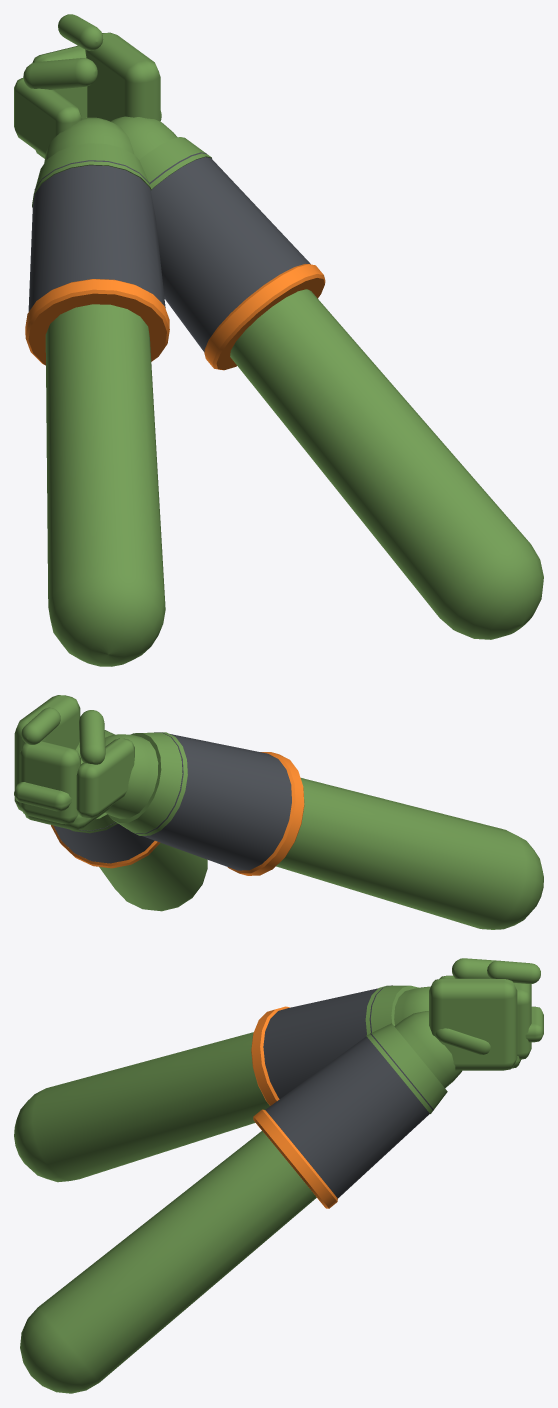
The model's file is boulder.glb.
The picture shows the model from 3 angles, top to bottom: view 1: azimuth 30°, elevation 25°; view 2: azimuth 150°, elevation 25°; view 3: azimuth 270°, elevation 25°; orthographic projection. The views are drawn at different scales.
Visible parts, largest first — view 1: forearm_R, forearm_L, bracer_R, bracer_L, palm_R, bracer_trim_L, bracer_trim_R, fingers_L, cuff_L, thumb_R, cuff_R, trigger_finger_R (+1 smaller); view 2: forearm_L, bracer_L, forearm_R, cuff_L, fingers_R, fingers_L, bracer_R, palm_R, bracer_trim_L, thumb_R, knuckles_R, trigger_finger_R (+3 smaller); view 3: forearm_R, forearm_L, bracer_R, bracer_L, palm_R, cuff_R, bracer_trim_R, cuff_L, bracer_trim_L, fingers_R, trigger_finger_R, thumb_L (+1 smaller).
Part boxes in pixels (x1=…): forearm_R: x1=110, y1=116, x2=543, y2=639; forearm_L: x1=44, y1=117, x2=165, y2=666; bracer_R: x1=149, y1=152, x2=310, y2=352; bracer_L: x1=28, y1=160, x2=165, y2=311; palm_R: x1=85, y1=32, x2=160, y2=121; bracer_trim_L: x1=25, y1=279, x2=169, y2=365; bracer_trim_R: x1=204, y1=264, x2=325, y2=370; fingers_L: x1=14, y1=78, x2=81, y2=156; cuff_L: x1=32, y1=143, x2=151, y2=207; thumb_R: x1=23, y1=58, x2=97, y2=89; cuff_R: x1=139, y1=137, x2=211, y2=189; trigger_finger_R: x1=58, y1=14, x2=103, y2=50; forearm_L: x1=105, y1=734, x2=543, y2=929; bracer_L: x1=127, y1=732, x2=291, y2=870; forearm_R: x1=76, y1=742, x2=207, y2=911; cuff_L: x1=108, y1=732, x2=187, y2=835; fingers_R: x1=19, y1=741, x2=80, y2=824; fingers_L: x1=76, y1=738, x2=134, y2=818; bracer_R: x1=54, y1=730, x2=154, y2=863; palm_R: x1=14, y1=695, x2=80, y2=811; bracer_trim_L: x1=227, y1=752, x2=304, y2=875; thumb_R: x1=79, y1=710, x2=105, y2=764; knuckles_R: x1=14, y1=782, x2=71, y2=811; trigger_finger_R: x1=21, y1=707, x2=60, y2=744; forearm_R: x1=20, y1=1011, x2=461, y2=1393; forearm_L: x1=14, y1=986, x2=430, y2=1182; bracer_R: x1=265, y1=1033, x2=433, y2=1198; bracer_L: x1=263, y1=985, x2=392, y2=1098; palm_R: x1=429, y1=978, x2=517, y2=1070; cuff_R: x1=366, y1=1023, x2=447, y2=1113; bracer_trim_R: x1=253, y1=1109, x2=337, y2=1208; cuff_L: x1=365, y1=985, x2=418, y2=1034; bracer_trim_L: x1=251, y1=1006, x2=289, y2=1105; fingers_R: x1=514, y1=983, x2=531, y2=1059; trigger_finger_R: x1=487, y1=960, x2=540, y2=983; thumb_L: x1=435, y1=1028, x2=490, y2=1054.
Size of the model in its own units: 0.4161 by 0.3715 by 0.4788.
